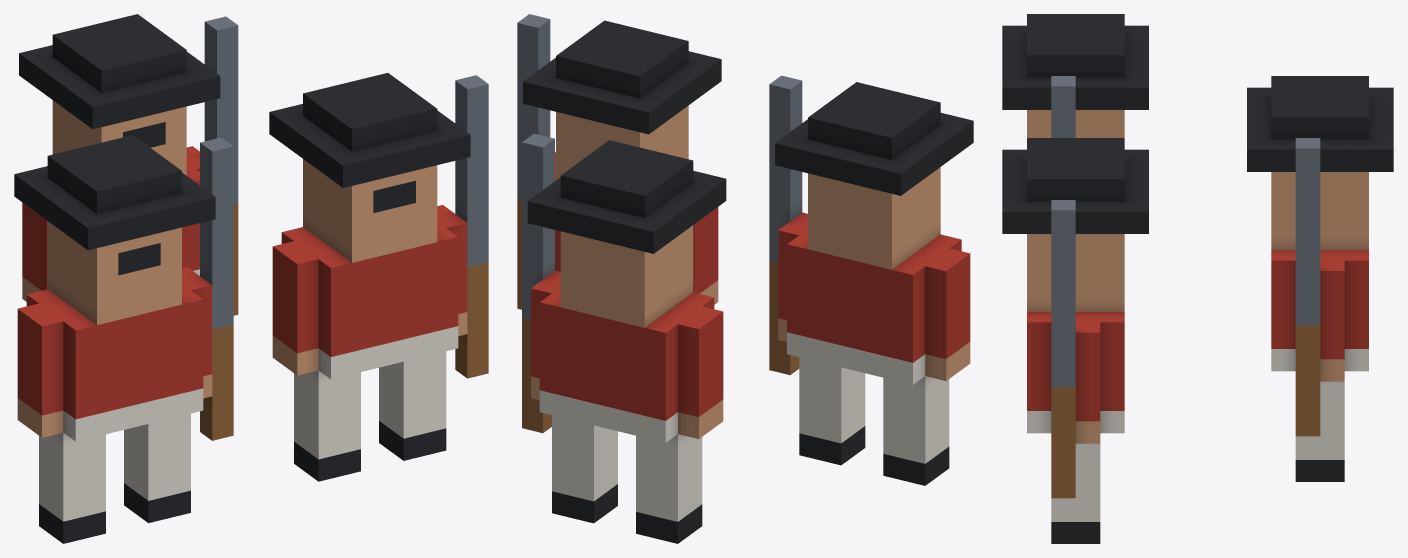
Rendered from u_musket.glb.
3 renders of one model, left to right at view 1: azimuth 30°, elevation 25°; view 2: azimuth 150°, elevation 25°; view 3: azimuth 270°, elevation 25°, orthographic.
Visible parts, largest first — view 1: u_musket_body; view 2: u_musket_body; view 3: u_musket_body.
Part boxes in pixels (x1,y1,x2,y2): u_musket_body: (14,14,488,543); u_musket_body: (517,14,973,543); u_musket_body: (1002,14,1393,543).
Size of the model in its own units: 1.31 by 1 by 1.
1 material, 1 textured.
